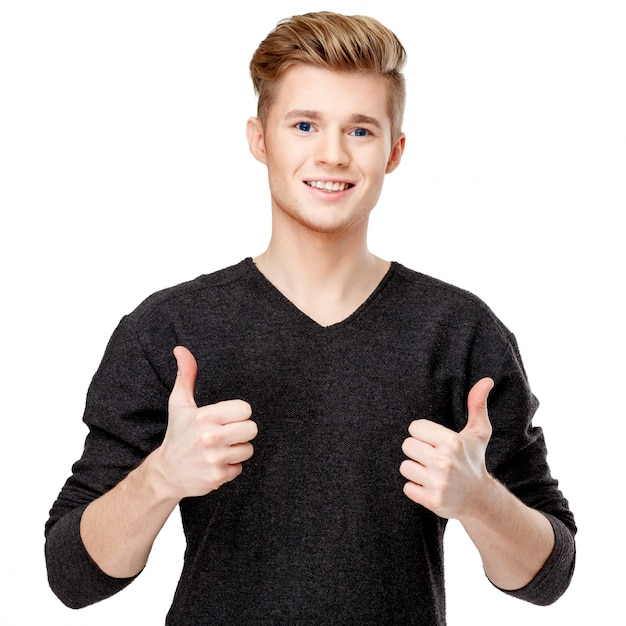teen: (246, 12, 443, 254)
